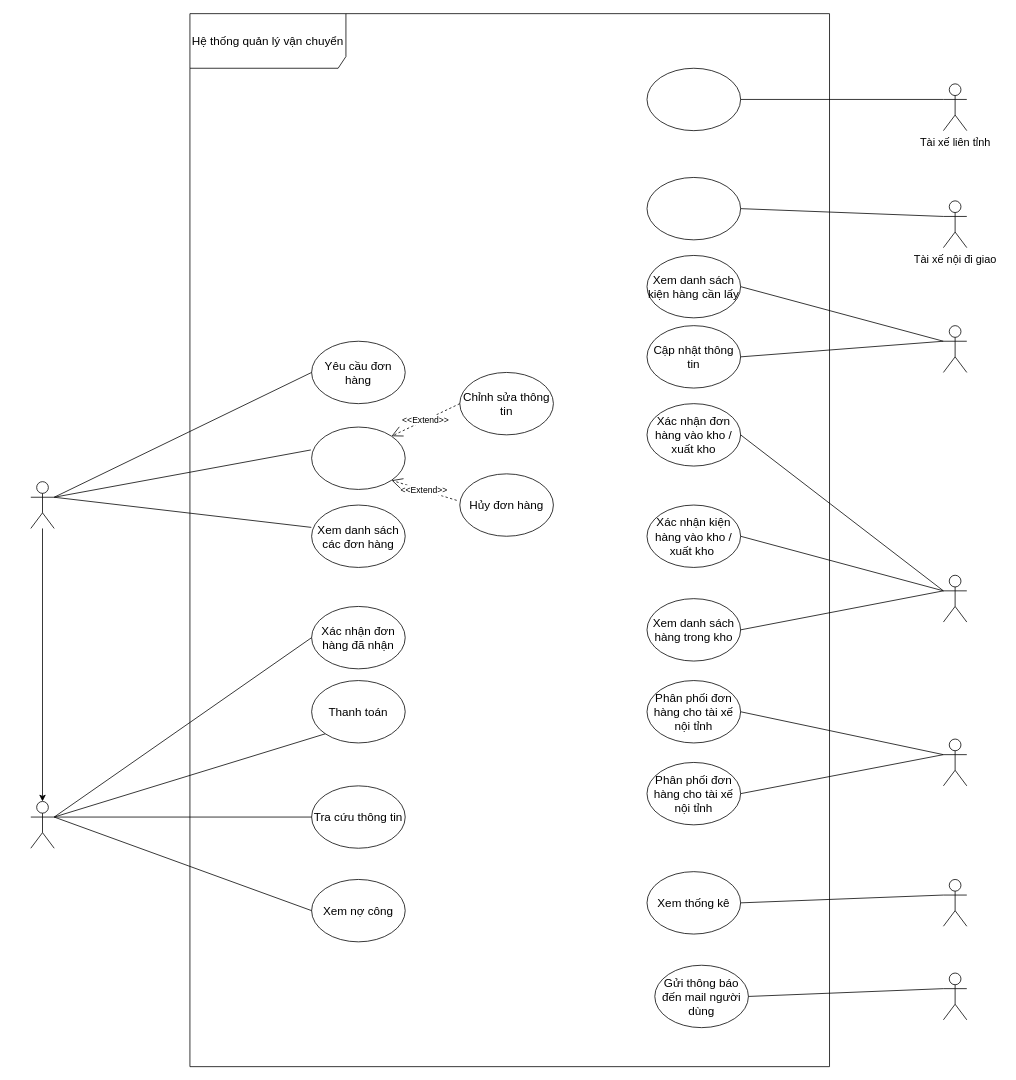
Some shapes in this 1016 by 1080 pixel diagram are drawn without their labels. The shapes that lost their labels are listed below. From the top down, each one's centre as x and y in pixels, then its label:
At (693,99): "Xem danh sách các đơn hàng cần lấy".
At (693,208): "Xem danh sách kiện hàng cần giao".
At (955,348): "Tài xế nội đi lấy".
At (358,457): "Quản lý đơn hàng".
At (42,504): "Người gửi".
At (955,598): "Thủ kho".
At (955,762): "Hệ thống phân phối".
At (42,824): "Người nhận".
At (955,902): "Quản lý".
At (955,996): "Hệ thống thông báo".
